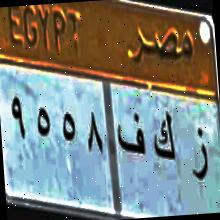5: (59, 108, 80, 151), (32, 105, 54, 140)
8: (82, 109, 106, 156)
9: (9, 91, 30, 146)
faa: (115, 111, 147, 162)
kaaf: (150, 110, 178, 170)
zay: (187, 123, 212, 189)
